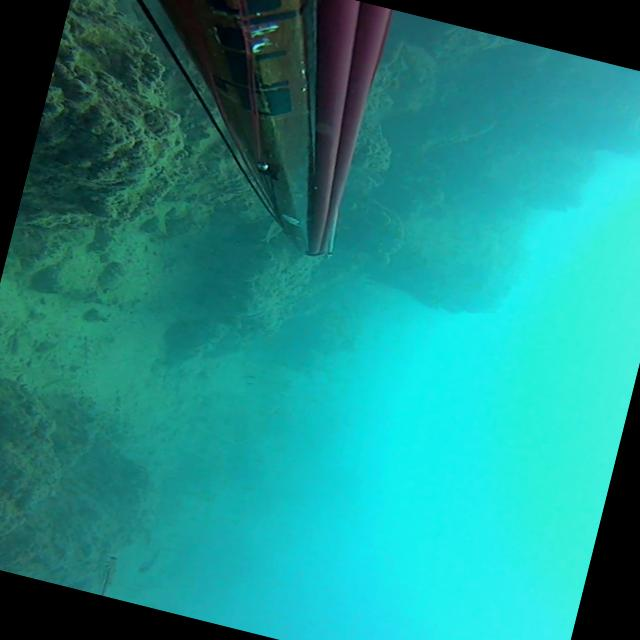Balon Baligi: (91, 548, 120, 597), (138, 542, 163, 574), (260, 217, 284, 244), (242, 372, 256, 384)
